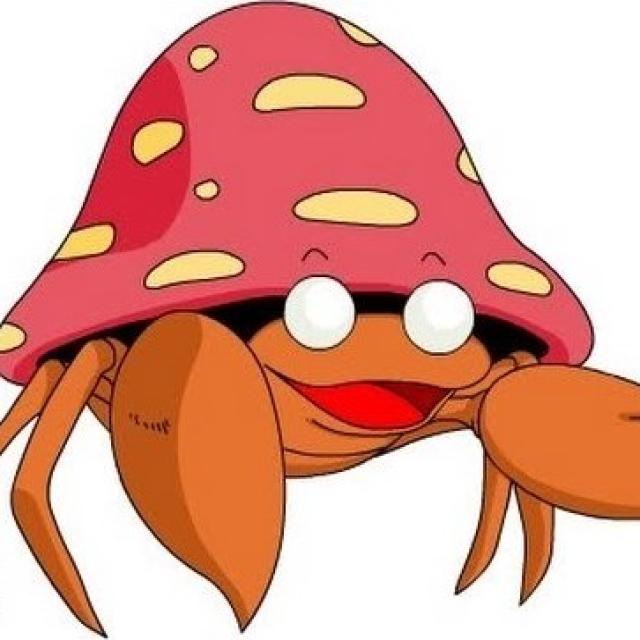Parasect: (31, 19, 640, 618)
